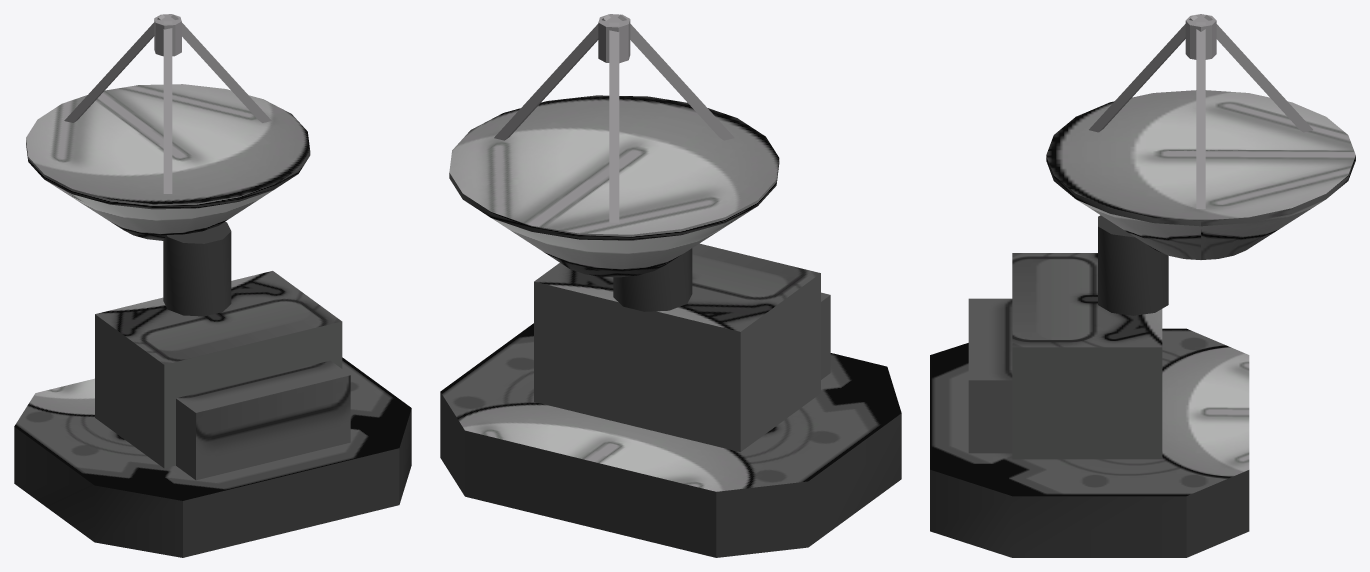
File: Building_OrbitalScanner.obj
3 renders of one model, left to right at view 1: azimuth 30°, elevation 25°; view 2: azimuth 150°, elevation 25°; view 3: azimuth 270°, elevation 25°, orthographic. The views are drawn at different scales.
Visible parts, largest first — view 1: Body; view 2: Body; view 3: Body.
Part boxes in pixels (<box>): Body: <box>14,14,411,557</box>; Body: <box>440,14,901,557</box>; Body: <box>930,14,1355,557</box>.
Bounding box in the file's own units: 1.28 × 1.63 × 1.38.
1 material, 1 textured.
